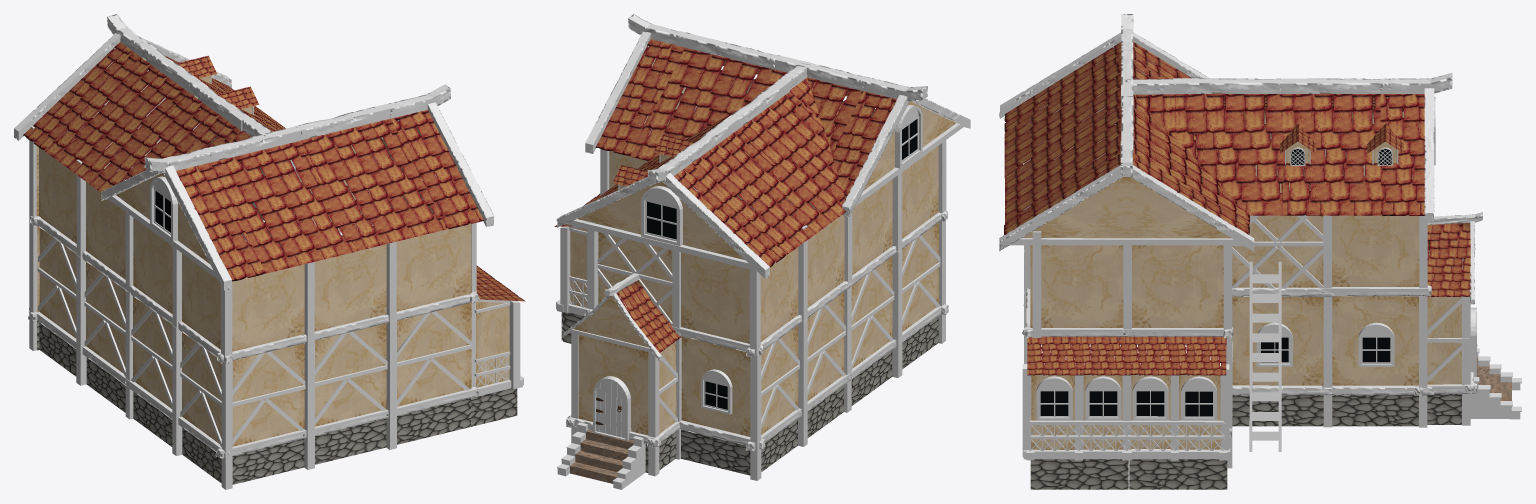
File: house_5.fbx
3 renders of one model, left to right at view 1: azimuth 30°, elevation 25°; view 2: azimuth 150°, elevation 25°; view 3: azimuth 270°, elevation 25°, orthographic. The views are drawn at different scales.
Parts seen in each view (by area): view 1: Cube.041, Cube.081, Cube.039, Plane.047, Circle.009, Plane.069, Plane.070, Cube.028, Plane.073, Plane.071, Plane.072, Circle.021 (+40 smaller); view 2: Cube.039, Cube.081, Cube.028, Circle.009, Plane.013, Plane.064, Cube.017, Plane.048, Cube.015, Plane.094, Cube.011, Plane.053 (+46 smaller); view 3: Circle.009, Cube.039, Cube.028, Cube.081, Plane.087, Plane.063, Plane.066, Plane.052, Plane.068, Cube.041, Cube.072, Plane.125 (+34 smaller).
Boxes of the visible parts, x1,y1,x2,y2 form: Cube.041: (205, 126, 356, 273); Cube.081: (295, 104, 447, 251); Cube.039: (43, 41, 285, 185); Plane.047: (386, 303, 478, 418); Circle.009: (381, 84, 494, 229); Plane.069: (215, 343, 306, 458); Plane.070: (302, 323, 388, 438); Cube.028: (92, 80, 281, 192); Plane.073: (385, 223, 479, 323); Plane.071: (217, 264, 306, 363); Plane.072: (302, 244, 396, 343); Circle.021: (176, 162, 265, 281); Cube.039: (593, 117, 833, 256); Cube.081: (630, 34, 779, 164); Cube.028: (638, 80, 852, 220); Circle.009: (585, 14, 725, 155); Plane.013: (679, 336, 765, 449); Plane.064: (672, 252, 763, 355); Cube.017: (562, 273, 681, 361); Plane.048: (578, 335, 648, 435); Cube.015: (597, 232, 680, 336); Plane.094: (847, 256, 896, 381); Cube.011: (557, 422, 645, 489); Plane.053: (745, 325, 801, 451); Circle.009: (999, 141, 1254, 251); Cube.039: (1281, 78, 1390, 215); Cube.028: (1173, 78, 1282, 215); Cube.081: (1005, 96, 1249, 224); Plane.087: (1322, 296, 1434, 395); Plane.063: (1122, 245, 1233, 337); Plane.066: (1022, 245, 1134, 337); Plane.052: (1232, 296, 1331, 395); Plane.068: (1321, 214, 1431, 296); Cube.041: (1004, 49, 1238, 178); Cube.072: (1232, 215, 1334, 296); Plane.125: (1023, 336, 1085, 460).
Bounding box in the file's own units: 278 × 245 × 367.
8 materials, 5 textured.
